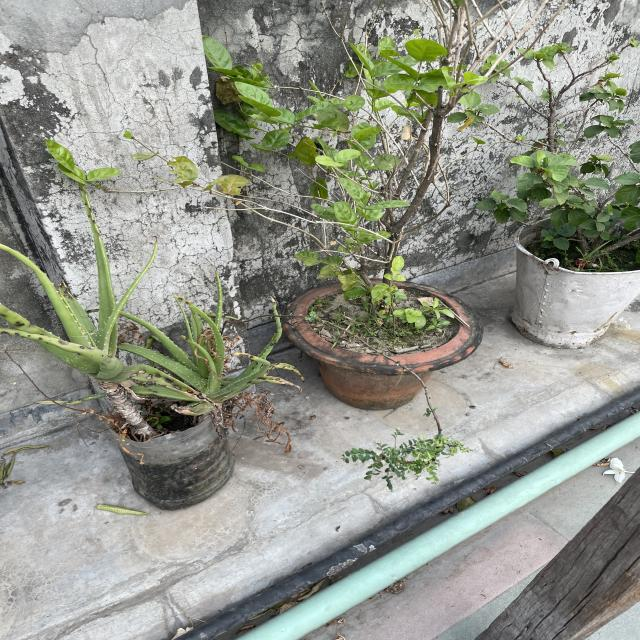Breeding Place: (290, 278, 485, 417), (516, 218, 640, 349), (113, 394, 232, 509)
